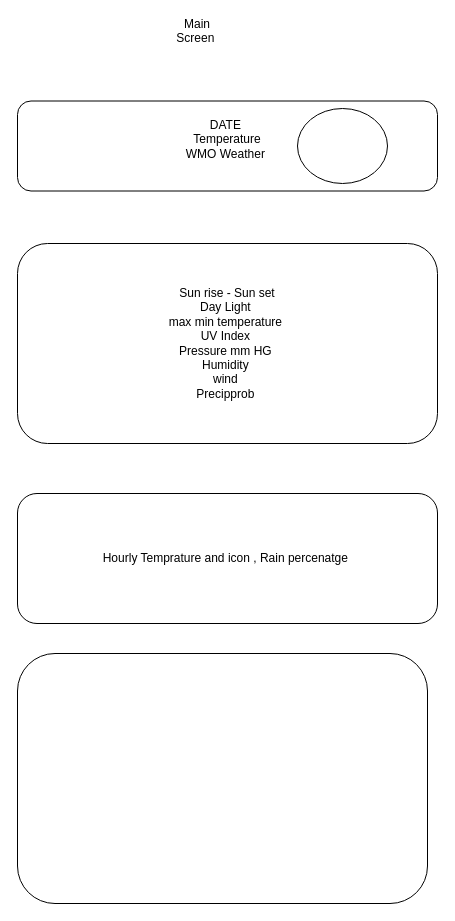
Image size: 455x921. Some labels were removed from this diagram. The centre of each missing label's shape, as x and y in pixels:
7 Days forecast Temperature min and max WMO Code and icon: pixel 222 778
ICON: pixel 342 146
